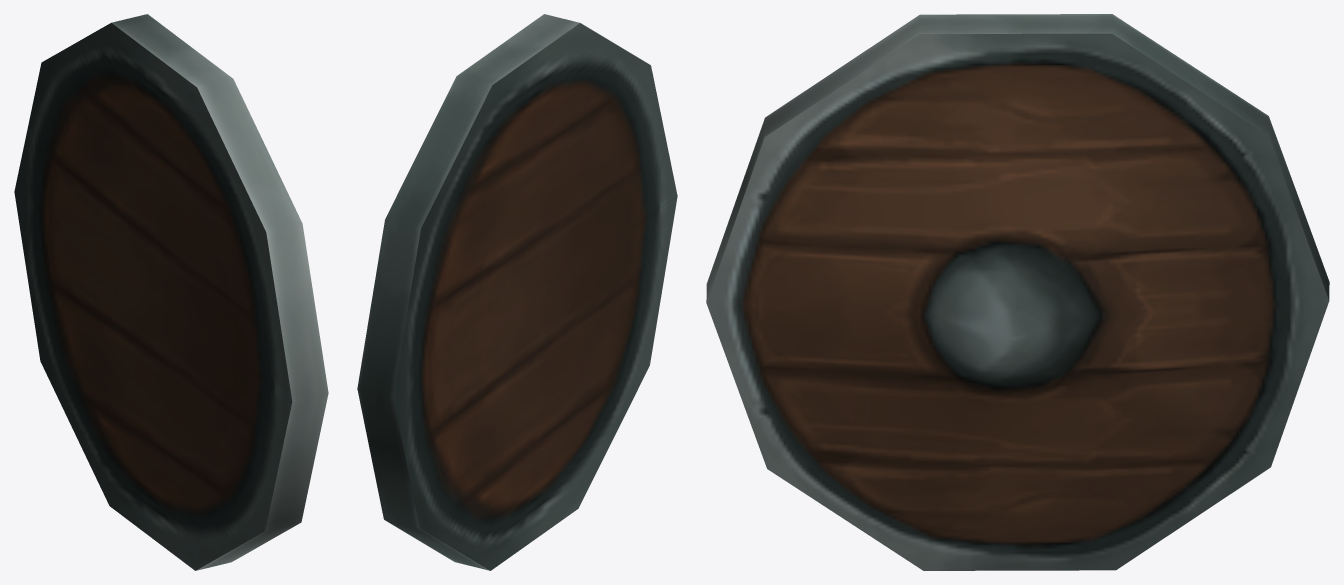
The model's file is DWF_Shield_B.FBX.
3 renders of one model, left to right at view 1: azimuth 30°, elevation 25°; view 2: azimuth 150°, elevation 25°; view 3: azimuth 270°, elevation 25°, orthographic. The views are drawn at different scales.
Visible parts, largest first — view 1: DWF_Shield_B; view 2: DWF_Shield_B; view 3: DWF_Shield_B.
Part boxes in pixels (x1,y1,x2,y2): DWF_Shield_B: [14, 14, 328, 570]; DWF_Shield_B: [357, 14, 677, 570]; DWF_Shield_B: [706, 14, 1329, 570].
Size of the model in its own units: 6.14 by 27.03 by 28.37.
Materials: 1 (1 with a texture image).
